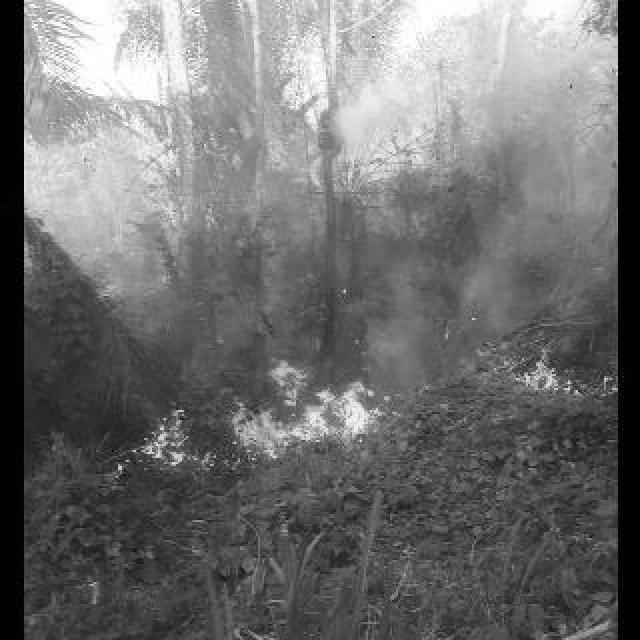fire: (106, 354, 388, 480), (506, 342, 594, 396)
smoke: (438, 128, 614, 346), (76, 208, 286, 378), (338, 196, 438, 406)
